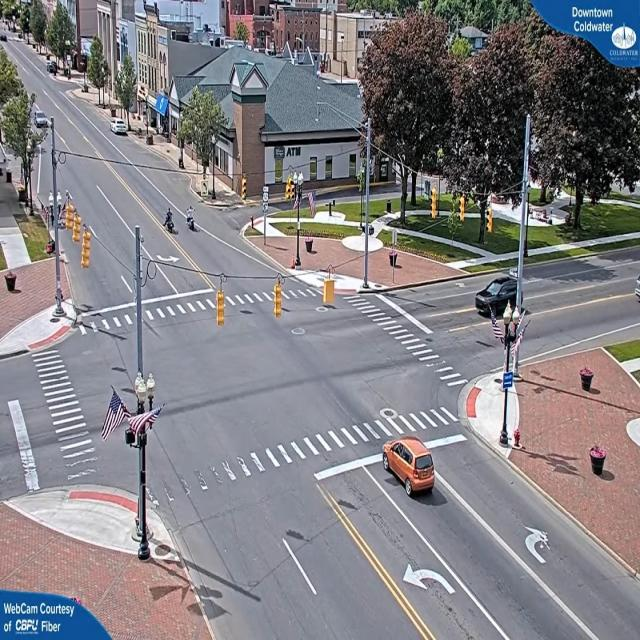car: (382, 434, 436, 497), (478, 276, 520, 320), (112, 120, 128, 136)
motorbike: (184, 207, 198, 233), (162, 208, 175, 233)
